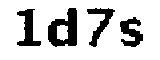1: (14, 8, 46, 49)
7: (86, 6, 117, 49)
d: (47, 6, 81, 49)
s: (118, 17, 147, 51)
